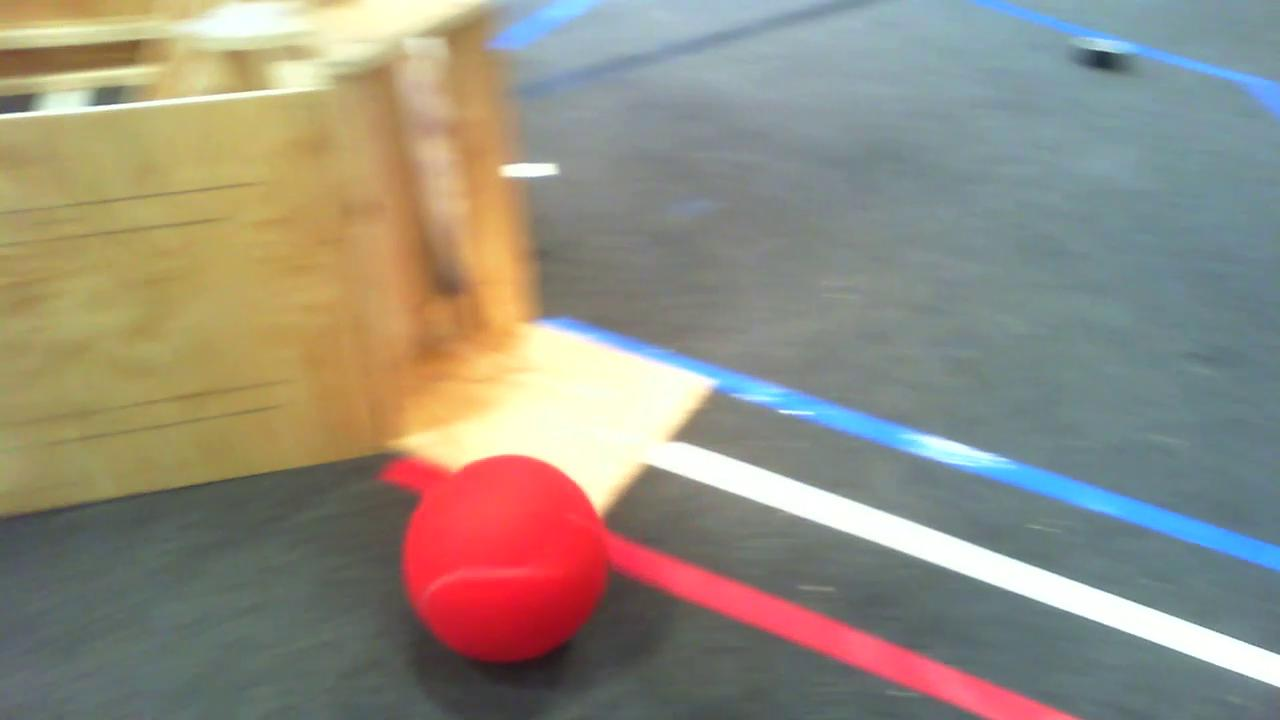Red_Ball: (383, 449, 636, 676)
